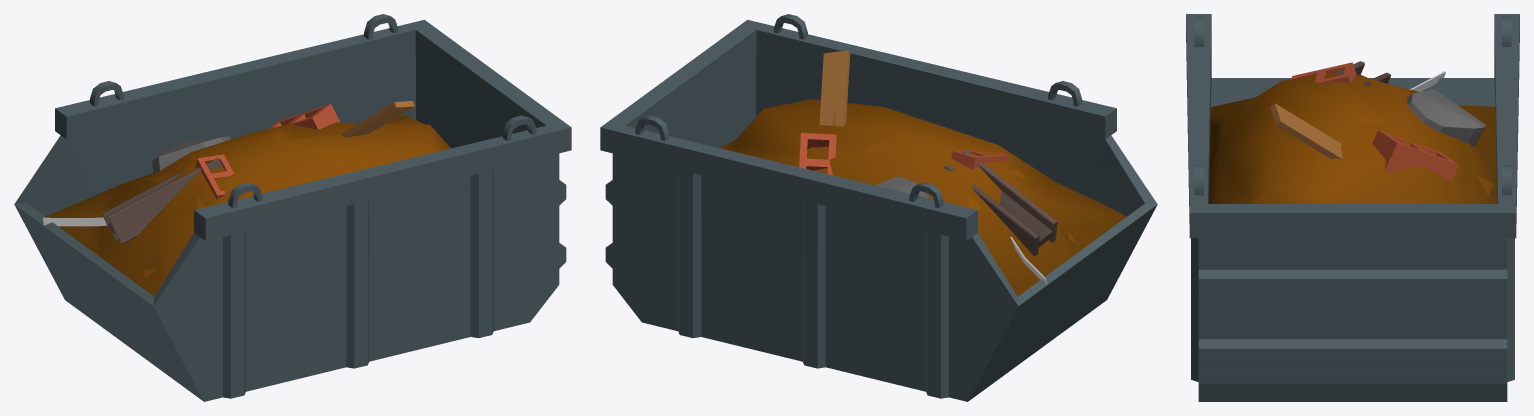
Rendered from RubbleContainer_E_2.fbx.
The picture shows the model from 3 angles, left to right: view 1: azimuth 30°, elevation 25°; view 2: azimuth 150°, elevation 25°; view 3: azimuth 270°, elevation 25°; orthographic projection. The views are drawn at different scales.
Visible parts, largest first — view 1: RubbleContainer_E_2; view 2: RubbleContainer_E_2; view 3: RubbleContainer_E_2.
Part boxes in pixels (x1=…): RubbleContainer_E_2: x1=14, y1=14, x2=571, y2=401; RubbleContainer_E_2: x1=600, y1=14, x2=1157, y2=401; RubbleContainer_E_2: x1=1186, y1=14, x2=1519, y2=401.
Size of the model in its own units: 413 by 210 by 260.
